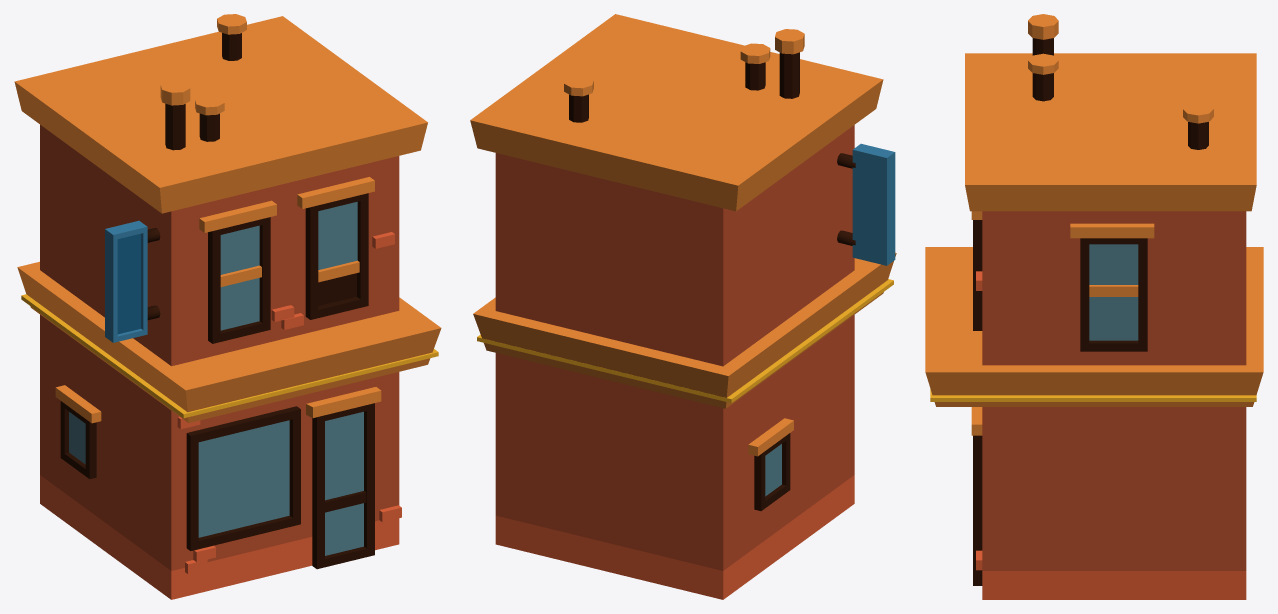
Rendered from Building A.fbx.
3 renders of one model, left to right at view 1: azimuth 30°, elevation 25°; view 2: azimuth 150°, elevation 25°; view 3: azimuth 270°, elevation 25°, orthographic.
Visible parts, largest first — view 1: Building A, Overhang.002, Overhang, Window Big, Door, Window.001, Window, Cube.014, Overhang.001, Window.009, Pipe, Pipe.001 (+1 smaller); view 2: Building A, Overhang.002, Overhang, Cube.014, Window.009, Overhang.001, Pipe, Pipe.001, Pipe.002; view 3: Building A, Overhang.002, Overhang, Window.002, Overhang.001, Door, Pipe.001, Pipe.002, Window.001, Pipe.
Part boxes in pixels (left/top/right/bottom): Building A: left=40, top=124, right=399, bottom=599; Overhang.002: left=14, top=16, right=427, bottom=213; Overhang: left=17, top=261, right=441, bottom=422; Window Big: left=186, top=406, right=300, bottom=550; Door: left=306, top=387, right=381, bottom=569; Window.001: left=297, top=177, right=374, bottom=319; Window: left=199, top=200, right=276, bottom=343; Cube.014: left=105, top=220, right=147, bottom=342; Overhang.001: left=21, top=294, right=438, bottom=418; Window.009: left=55, top=385, right=101, bottom=478; Pipe: left=160, top=80, right=190, bottom=150; Pipe.001: left=195, top=94, right=224, bottom=141; Building A: left=495, top=125, right=854, bottom=599; Overhang.002: left=470, top=14, right=883, bottom=211; Overhang: left=473, top=252, right=896, bottom=408; Cube.014: left=852, top=143, right=895, bottom=265; Window.009: left=748, top=418, right=793, bottom=510; Overhang.001: left=477, top=279, right=893, bottom=403; Pipe: left=775, top=29, right=804, bottom=98; Pipe.001: left=740, top=43, right=770, bottom=90; Pipe.002: left=564, top=75, right=593, bottom=122; Building A: left=982, top=211, right=1246, bottom=599; Overhang.002: left=965, top=53, right=1256, bottom=211; Overhang: left=925, top=247, right=1263, bottom=406; Window.002: left=1070, top=223, right=1154, bottom=351; Overhang.001: left=930, top=389, right=1256, bottom=401; Door: left=971, top=407, right=982, bottom=585; Pipe.001: left=1028, top=53, right=1058, bottom=101; Pipe.002: left=1183, top=102, right=1213, bottom=149; Window.001: left=971, top=211, right=982, bottom=330; Pipe: left=1028, top=14, right=1058, bottom=55.
Size of the model in its own units: 261 by 405 by 256.
